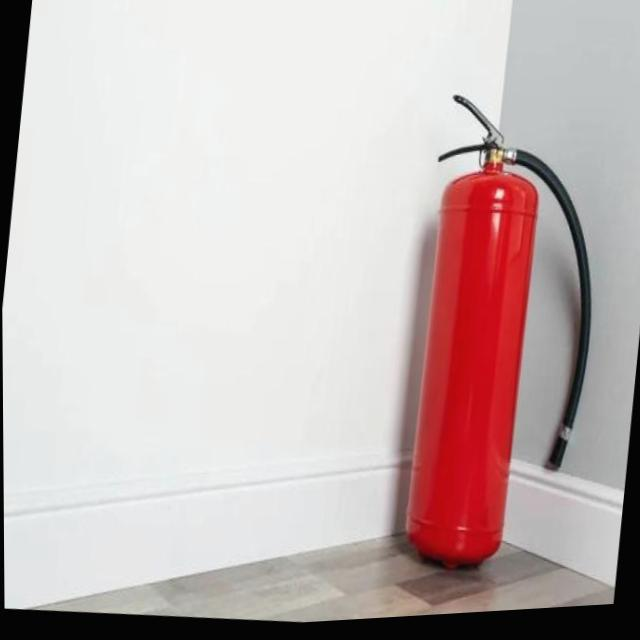FireExtinguisher: (389, 84, 618, 592)
